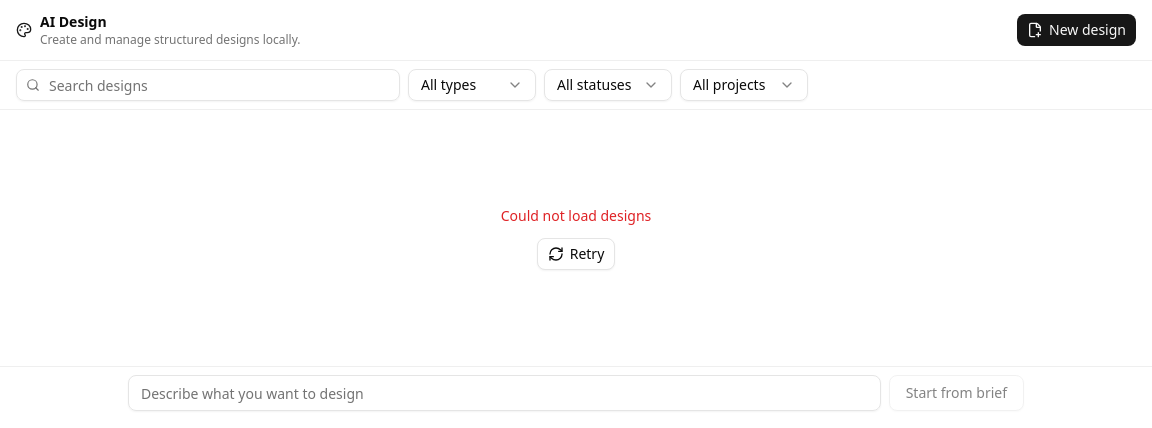
Test: DesignHomePage › filters by search text and retries a failed load
Expected: the text "Could not load designs" is shown, top-left (501, 206), bottom-right (651, 226)
Step 1. Click the button "Retry" → (576, 254), box top-left (537, 238), bottom-right (615, 270)
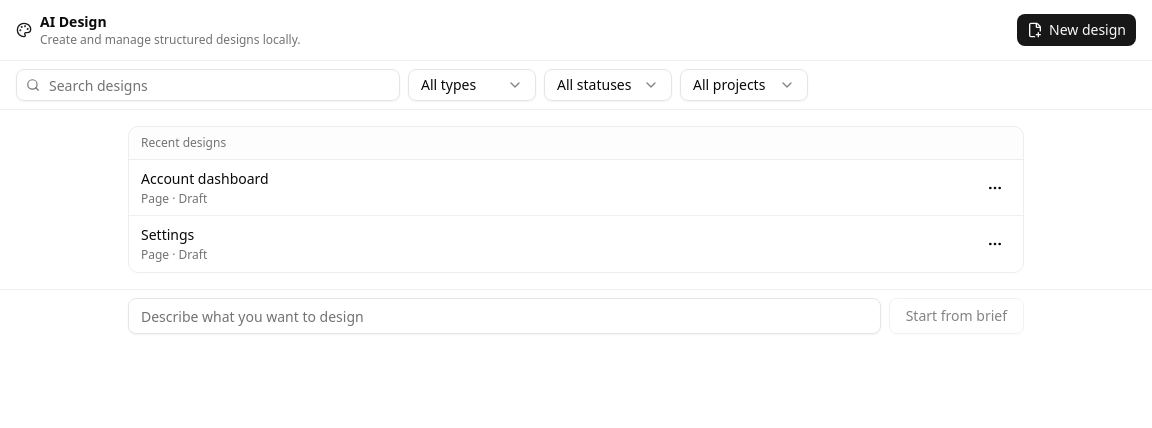
Now the text "Account dashboard" is shown, box top-left (141, 168), bottom-right (269, 188)
Step 2. Type "settings" into the search field labelled "Search designs" → (208, 85), box top-left (16, 69), bottom-right (400, 101)
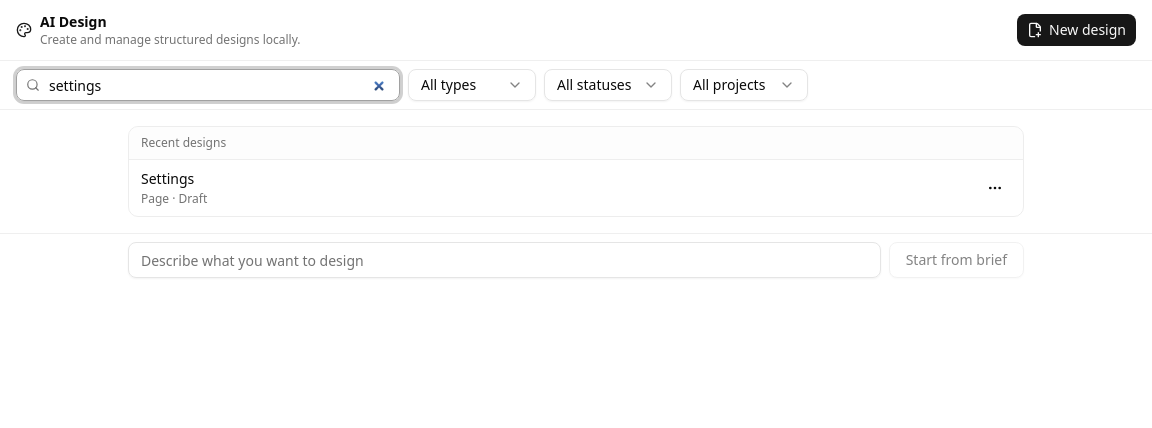
Now the text "Settings" is shown, box top-left (141, 169), bottom-right (194, 188)
Now the button "Account dashboard" is gone
